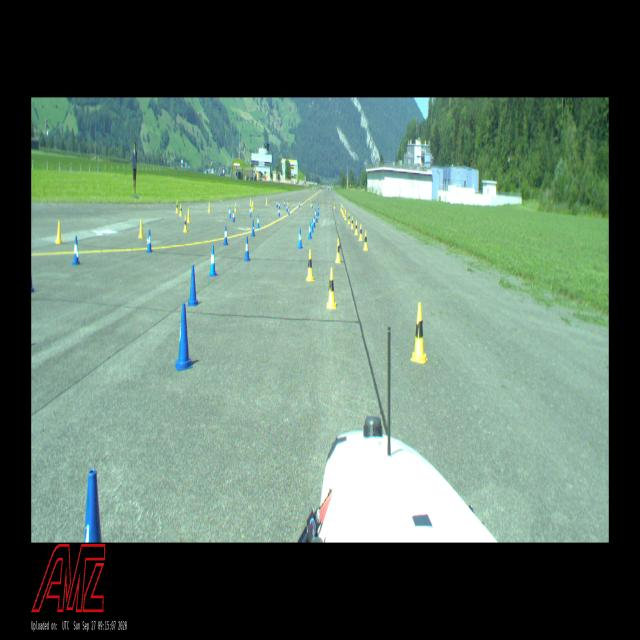blue_cone: (84, 469, 102, 542), (174, 303, 193, 371), (186, 264, 199, 307), (209, 245, 217, 277), (72, 236, 80, 265), (244, 236, 250, 261), (146, 229, 152, 253), (297, 228, 303, 248), (223, 226, 228, 246), (308, 222, 312, 239), (251, 220, 255, 236), (256, 214, 260, 229), (311, 218, 314, 233), (313, 215, 316, 228), (232, 210, 235, 222), (228, 206, 231, 218), (249, 207, 252, 217), (315, 212, 318, 222), (286, 203, 288, 212), (288, 206, 290, 215), (318, 202, 320, 211), (317, 207, 319, 216), (276, 200, 278, 208), (278, 208, 280, 216), (311, 201, 313, 209), (284, 200, 286, 207), (298, 200, 300, 207), (278, 202, 280, 208), (315, 209, 316, 218)
yellow_cone: (411, 302, 428, 364), (326, 267, 337, 309), (306, 249, 315, 282), (55, 220, 62, 244), (336, 238, 342, 263), (138, 218, 144, 238), (363, 230, 368, 250), (358, 223, 363, 241), (183, 215, 188, 232), (354, 221, 358, 235), (179, 203, 183, 216), (187, 208, 190, 223), (351, 217, 354, 230), (234, 202, 237, 212), (176, 200, 178, 213), (348, 212, 350, 224), (208, 202, 210, 213), (251, 202, 253, 212), (344, 210, 346, 220), (252, 200, 254, 209), (341, 204, 343, 213), (343, 208, 345, 217), (250, 198, 252, 206), (340, 203, 342, 211), (310, 199, 312, 207), (266, 197, 268, 204), (287, 198, 289, 205), (342, 206, 343, 214), (334, 202, 335, 208)
